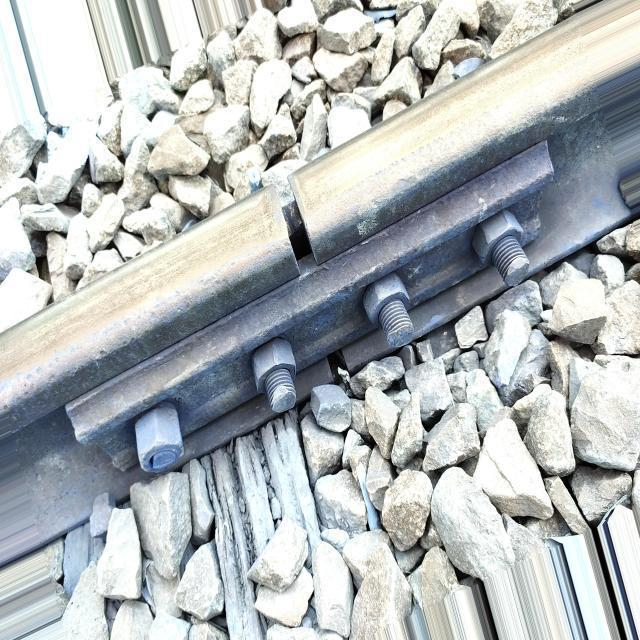head_checks_low: (389, 172, 419, 193)
